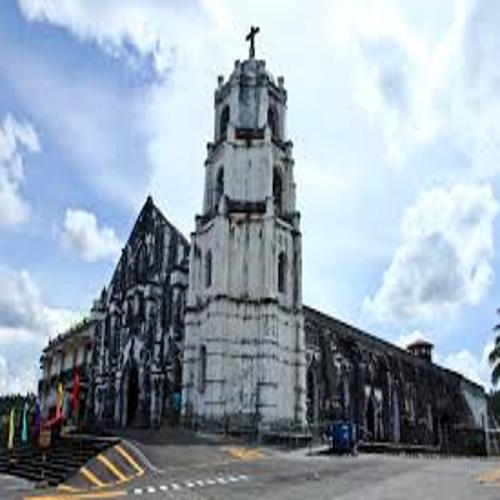Daraga Church: (83, 23, 315, 450)
